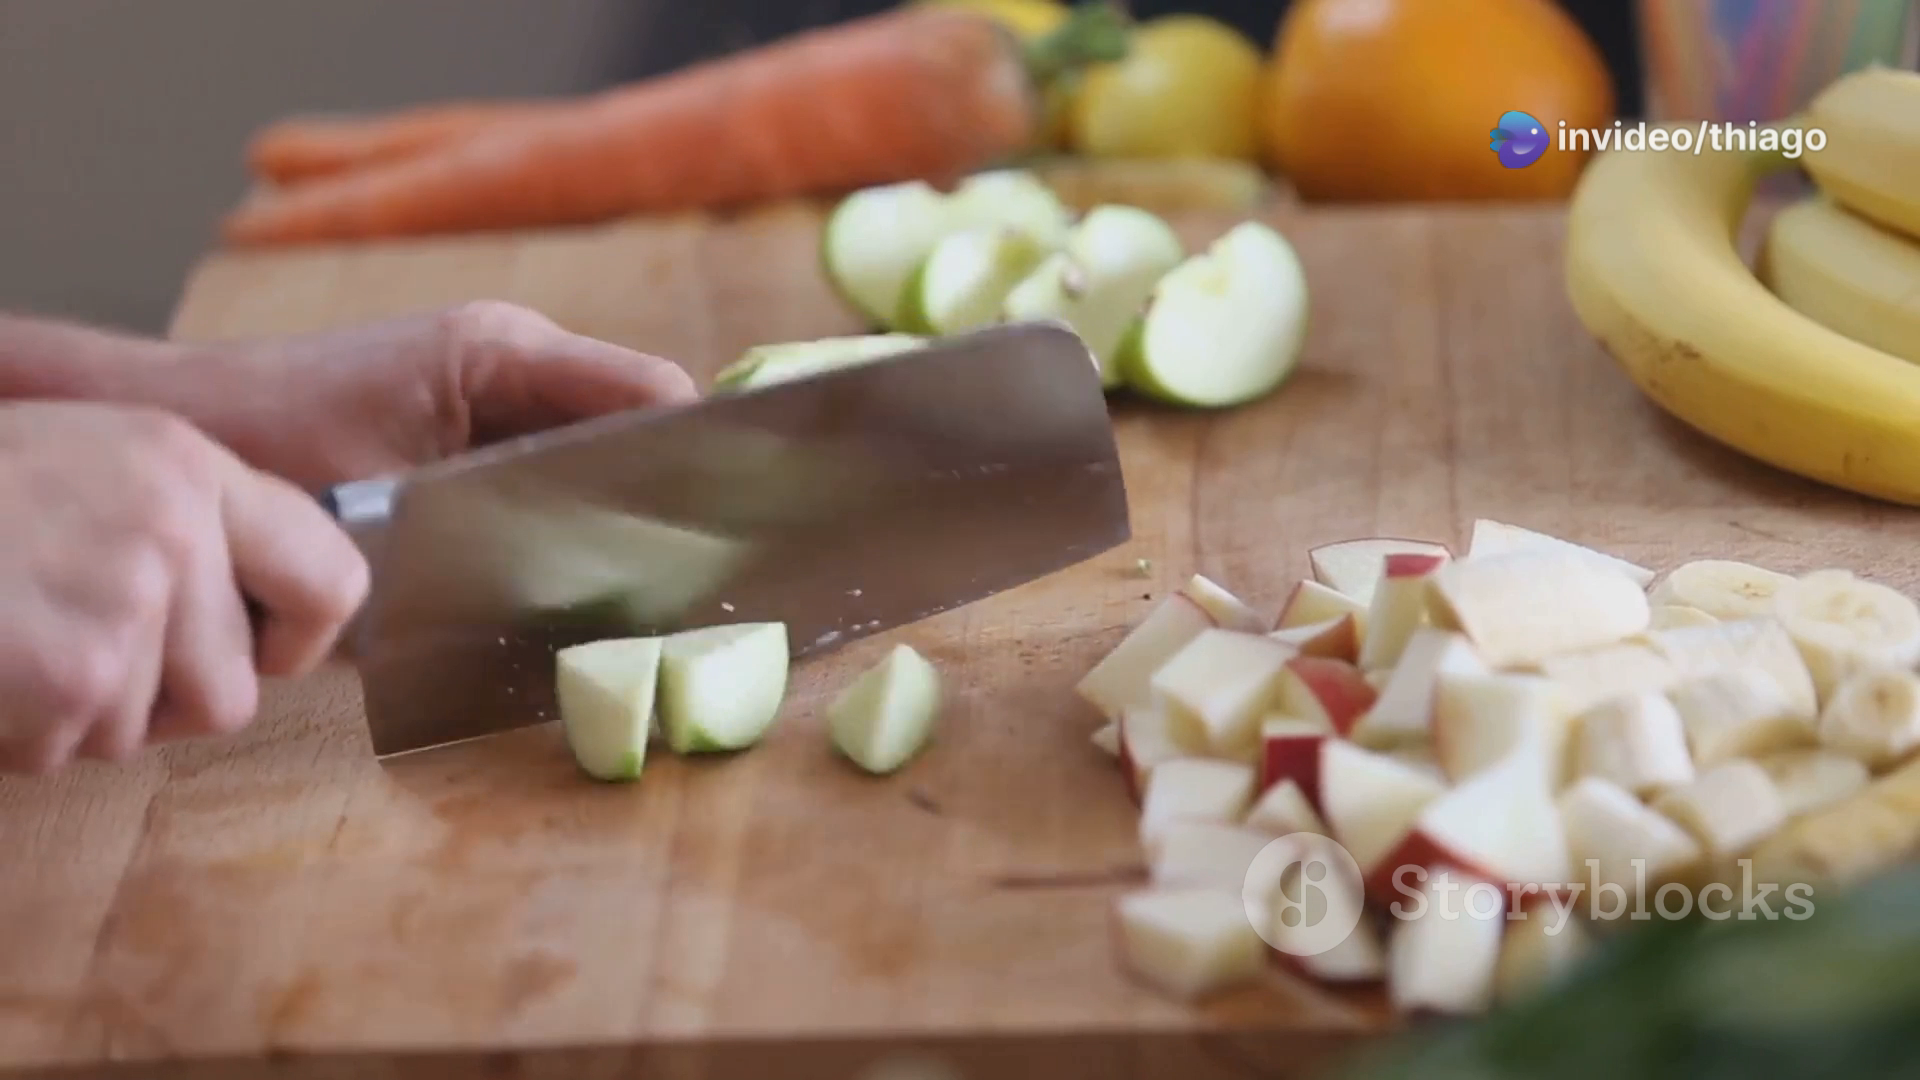cortante: (313, 322, 1134, 754)
